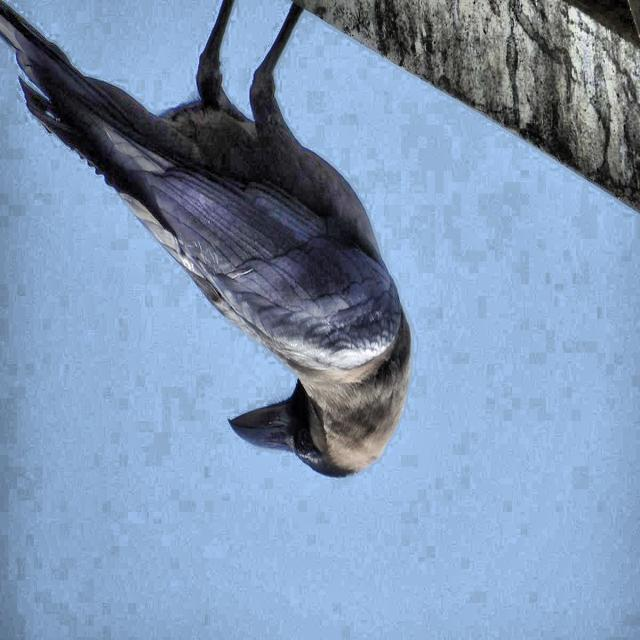crow: (0, 0, 417, 484)
